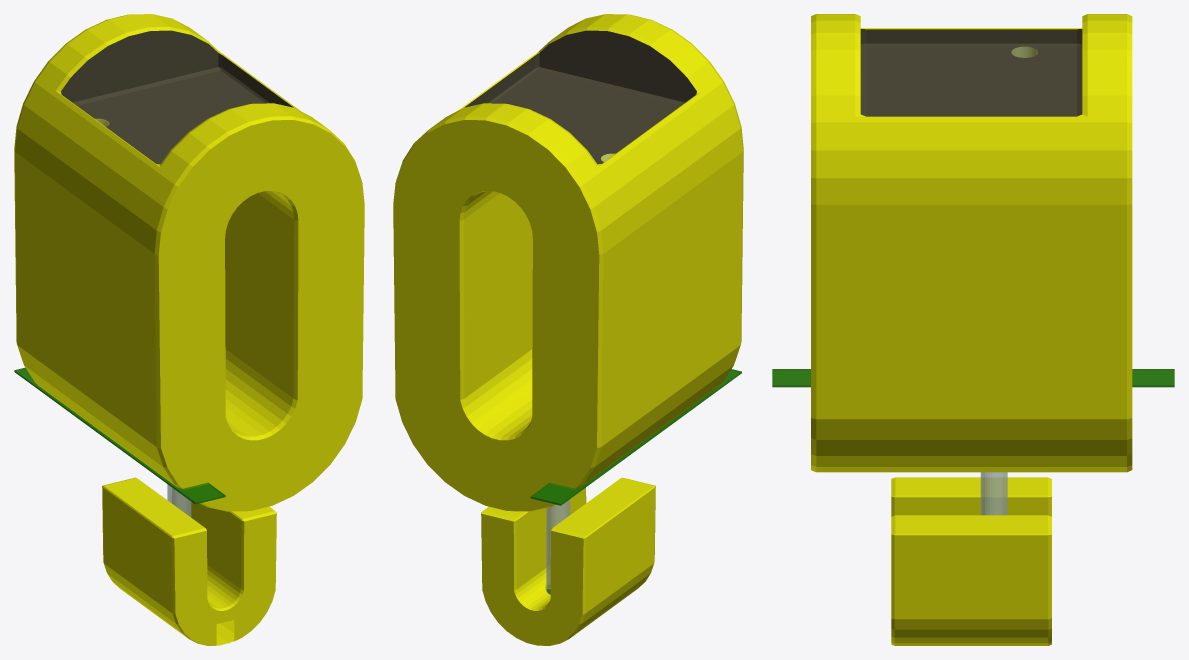
The model's file is obita_Vb_1.0.glb.
3 renders of one model, left to right at view 1: azimuth 30°, elevation 25°; view 2: azimuth 150°, elevation 25°; view 3: azimuth 270°, elevation 25°, orthographic. The views are drawn at different scales.
Parts seen in each view (by area): view 1: O, u, club, Cube.009; view 2: O, u, club, Cube.009, lift; view 3: O, u, club, Cube.009, lift.
Part boxes in pixels (x1=…): O: x1=14, y1=14, x2=364, y2=511; u: x1=102, y1=477, x2=276, y2=645; club: x1=61, y1=30, x2=293, y2=164; Cube.009: x1=14, y1=367, x2=225, y2=504; O: x1=393, y1=14, x2=743, y2=511; u: x1=481, y1=477, x2=655, y2=645; club: x1=464, y1=30, x2=696, y2=164; Cube.009: x1=530, y1=369, x2=741, y2=505; lift: x1=546, y1=499, x2=570, y2=594; O: x1=811, y1=14, x2=1132, y2=472; u: x1=891, y1=477, x2=1051, y2=645; club: x1=860, y1=29, x2=1082, y2=116; Cube.009: x1=772, y1=369, x2=1174, y2=387; lift: x1=980, y1=472, x2=1007, y2=515.
Size of what is drawn, in the model's own units: 33.63 by 84.45 by 50.27.
